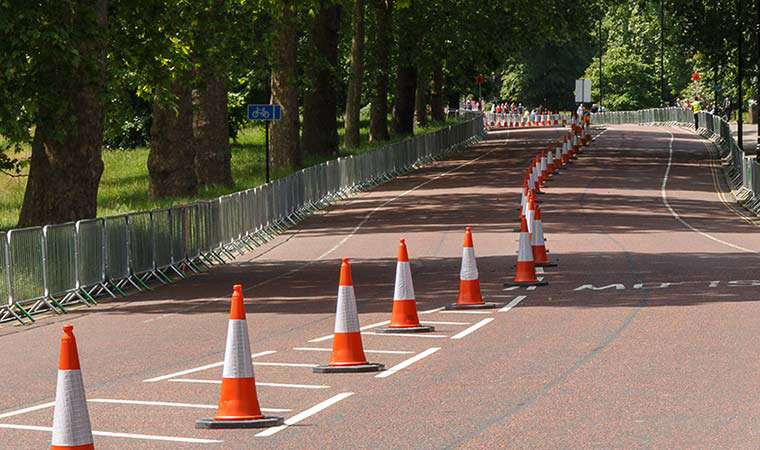cone: (188, 281, 288, 435), (24, 320, 120, 450), (307, 254, 391, 379), (371, 230, 436, 337), (439, 226, 499, 315), (499, 213, 553, 293), (517, 202, 558, 270), (516, 198, 546, 258)
